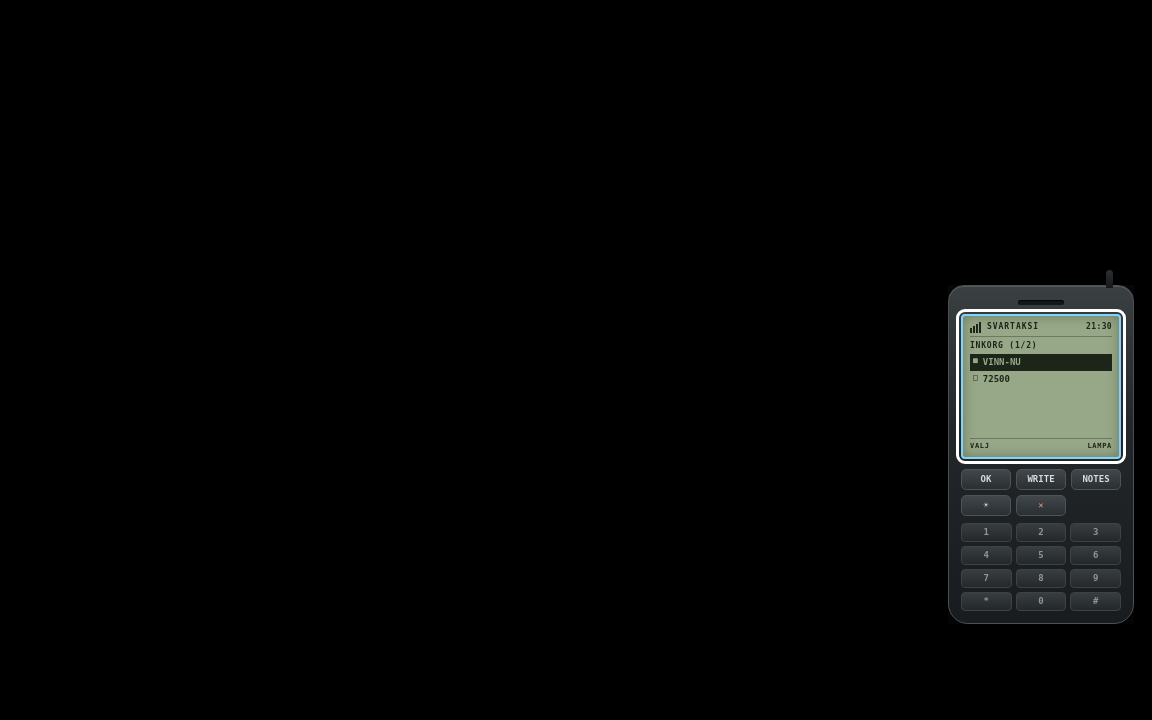
phone › opens a message and reports it read
Click the button "■ VINN-NU".
click(1041, 362)  # box left=970, top=354, right=1112, bottom=370
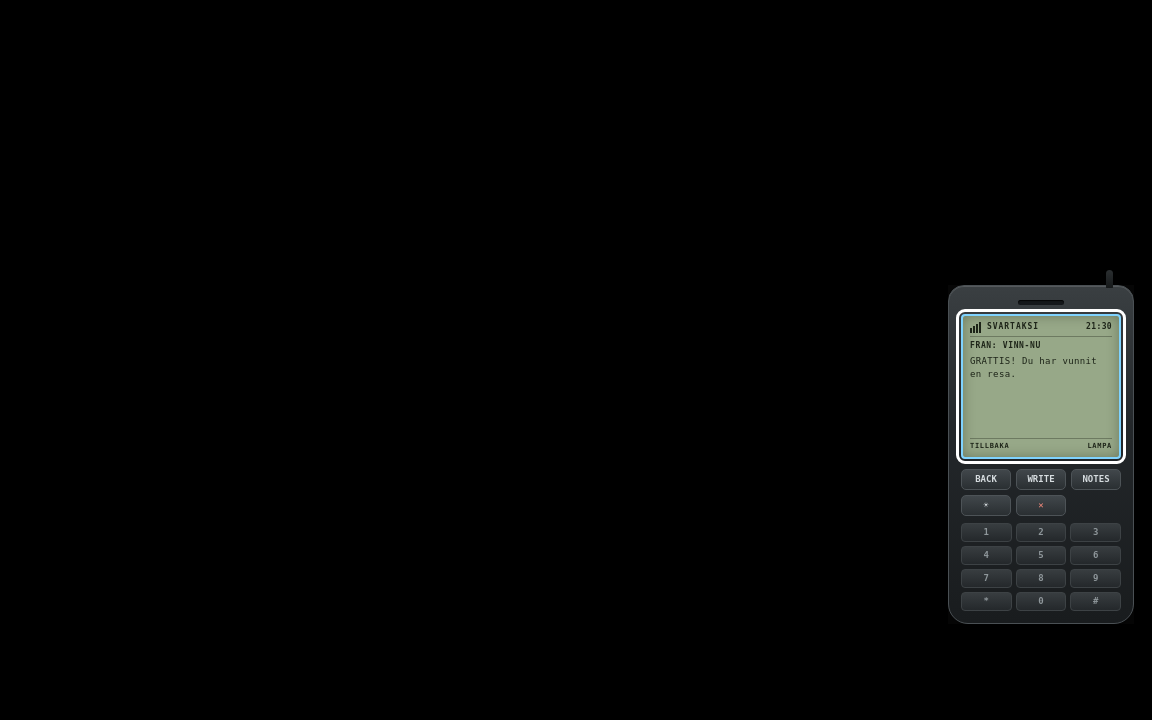
Check: the text "GRATTIS! Du har vunnit en resa." is shown, box left=970, top=355, right=1112, bottom=380
Check: the text "FRAN: VINN-NU" is shown, box left=970, top=341, right=1041, bottom=350
